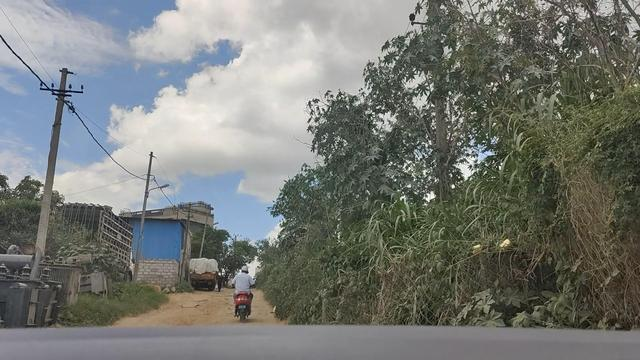HMV: (185, 254, 218, 293)
UnsurfacedRoad: (138, 286, 233, 328)
